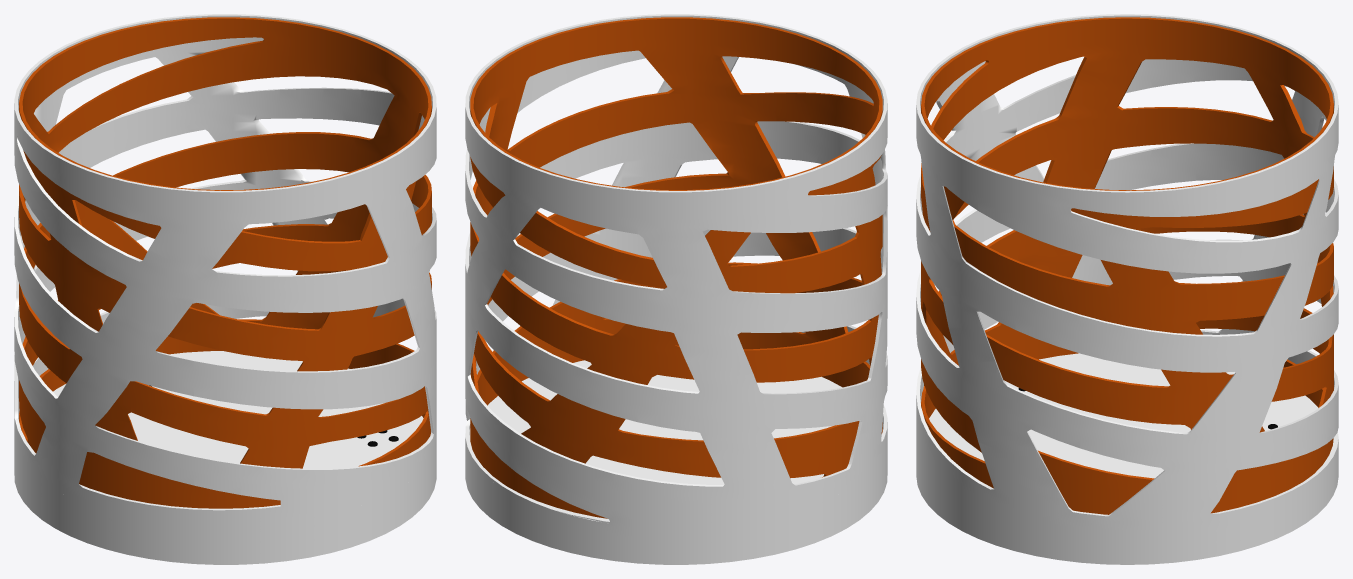
The model's file is kamin.glb.
3 views of the same model, side by side, from view 1: azimuth 30°, elevation 25°; view 2: azimuth 150°, elevation 25°; view 3: azimuth 270°, elevation 25° (orthographic).
Visible parts, largest first — view 1: белый внешн, оранжевый внутр, низ белый; view 2: белый внешн, оранжевый внутр, низ белый; view 3: белый внешн, оранжевый внутр, низ белый.
Boxes of the visible parts, x1,y1,x2,y2 form: белый внешн: (14, 14, 436, 564); оранжевый внутр: (19, 17, 431, 508); низ белый: (14, 351, 423, 533); белый внешн: (465, 14, 887, 564); оранжевый внутр: (470, 17, 882, 518); низ белый: (469, 360, 887, 533); белый внешн: (916, 14, 1338, 564); оранжевый внутр: (921, 17, 1333, 514); низ белый: (919, 353, 1338, 531).
Bounding box in the file's own units: 0.04 × 0.04 × 0.04.
